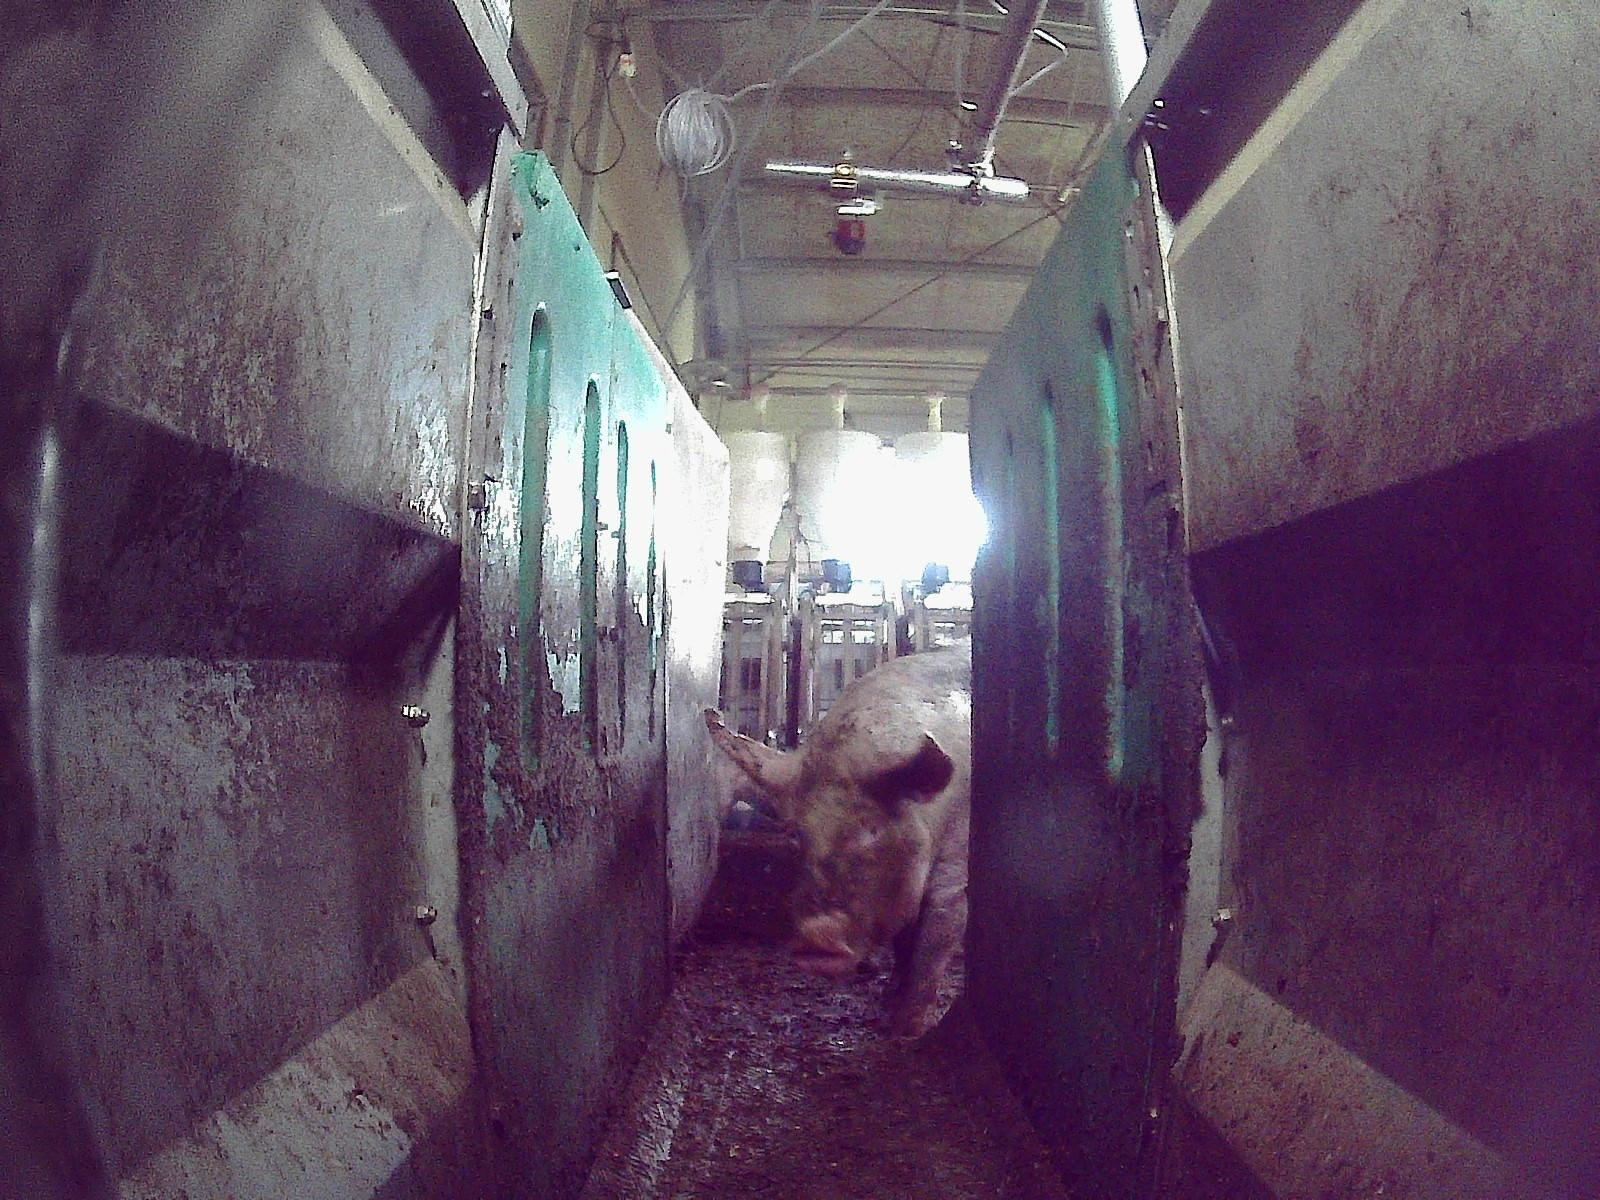Face: (769, 749, 934, 974)
